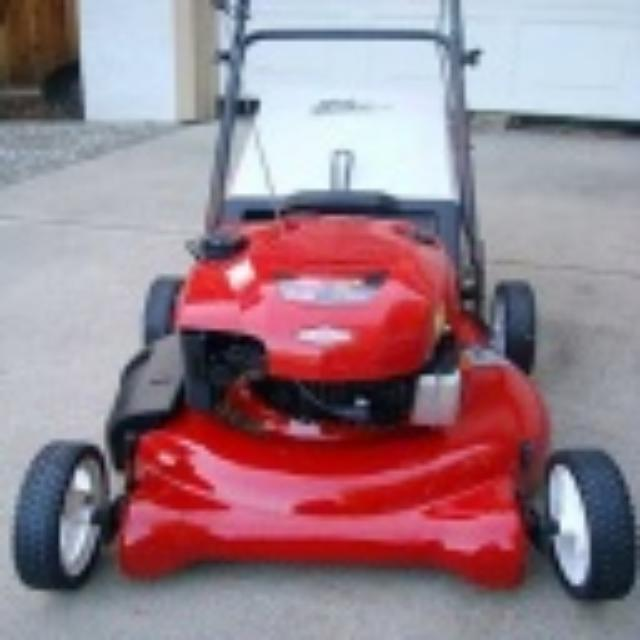Rotary-Mower: (10, 0, 634, 600)
